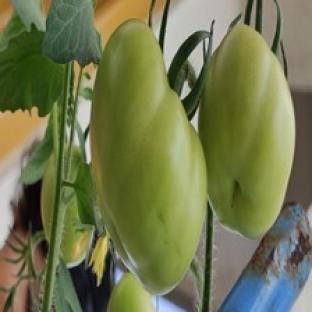Tomato: (91, 20, 206, 293), (200, 26, 295, 238), (60, 189, 91, 267), (108, 272, 155, 311)
